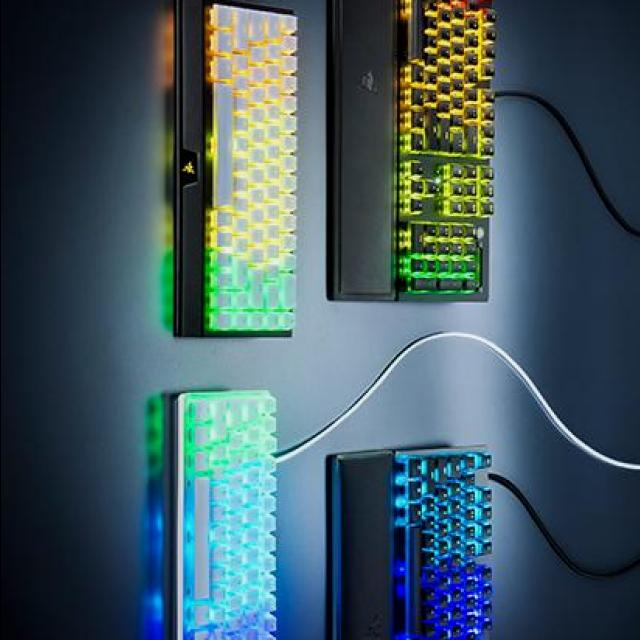keyboard: (173, 1, 302, 339), (388, 0, 502, 306), (171, 385, 281, 640), (387, 438, 499, 640)
